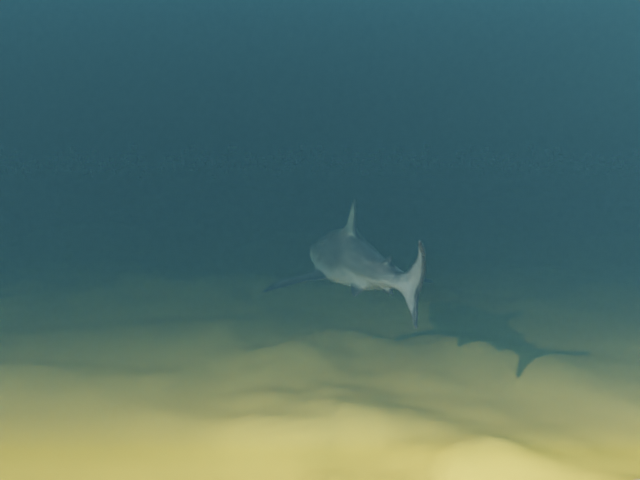Carribean Shark.001: (262, 199, 434, 329)
